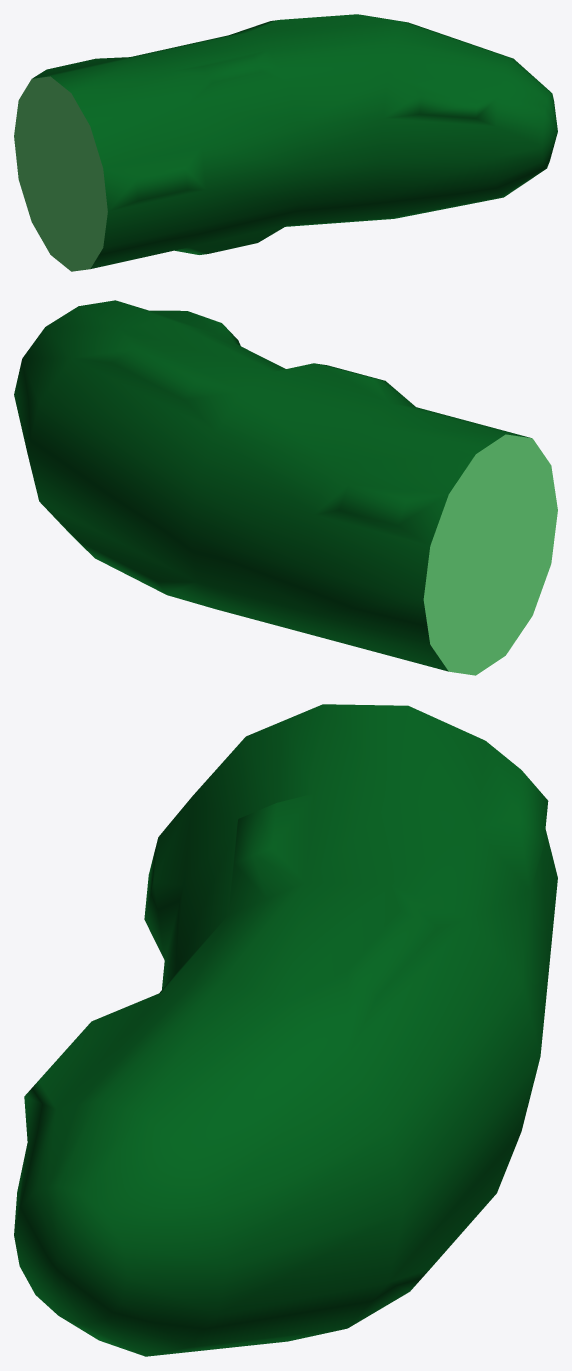
The model's file is mesh_Pickle_Stage06.fbx.
3 renders of one model, top to bottom at view 1: azimuth 30°, elevation 25°; view 2: azimuth 150°, elevation 25°; view 3: azimuth 270°, elevation 25°, orthographic. The views are drawn at different scales.
Visible parts, largest first — view 1: mesh_Pickle_Stage06; view 2: mesh_Pickle_Stage06; view 3: mesh_Pickle_Stage06.
Part boxes in pixels (x1,y1,x2,y2): mesh_Pickle_Stage06: [14, 14, 557, 271]; mesh_Pickle_Stage06: [14, 300, 557, 675]; mesh_Pickle_Stage06: [14, 704, 557, 1356].
Bounding box in the file's own units: 0.0828 × 0.0349 × 0.0472.
